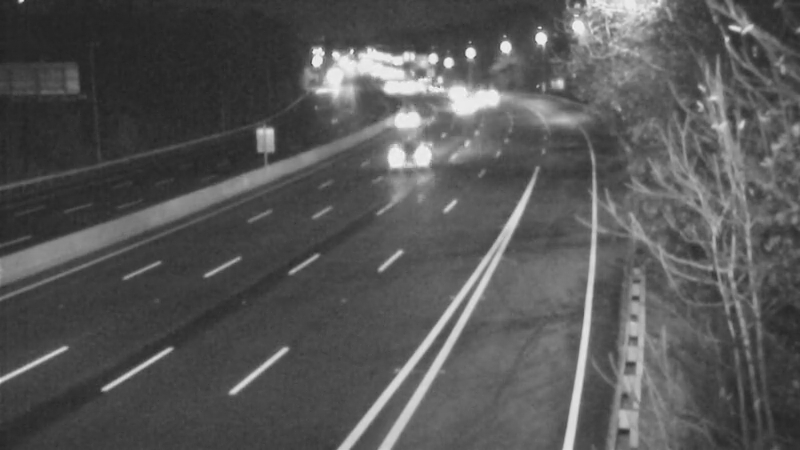vehicle: (368, 117, 448, 197), (427, 67, 477, 117), (462, 72, 512, 122), (434, 76, 484, 126), (379, 96, 429, 146)
